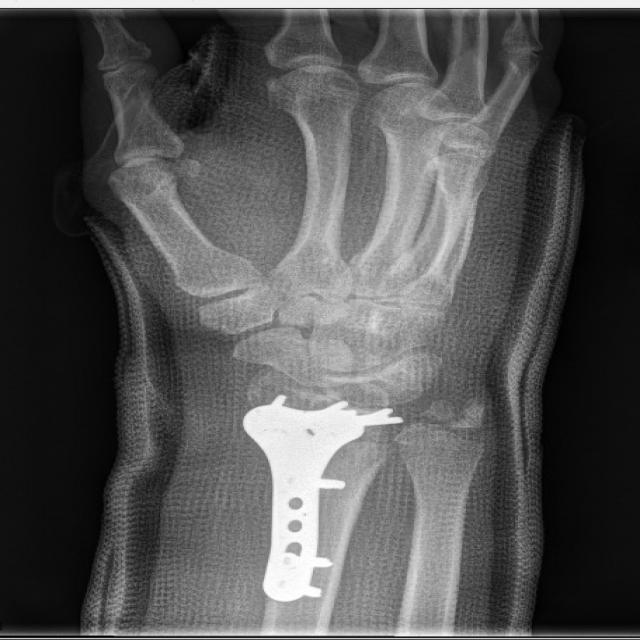x-ray: (219, 384, 413, 606)
